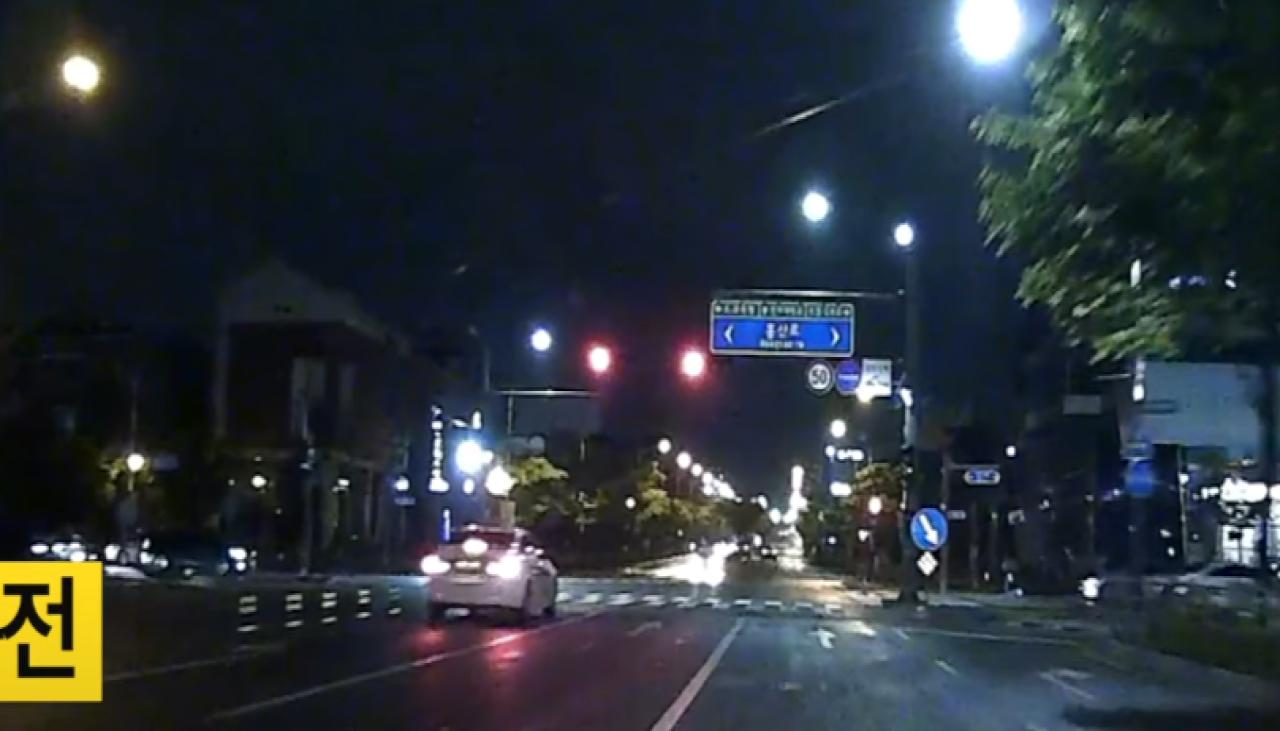Red Light: (679, 345, 706, 380), (588, 344, 613, 377)
